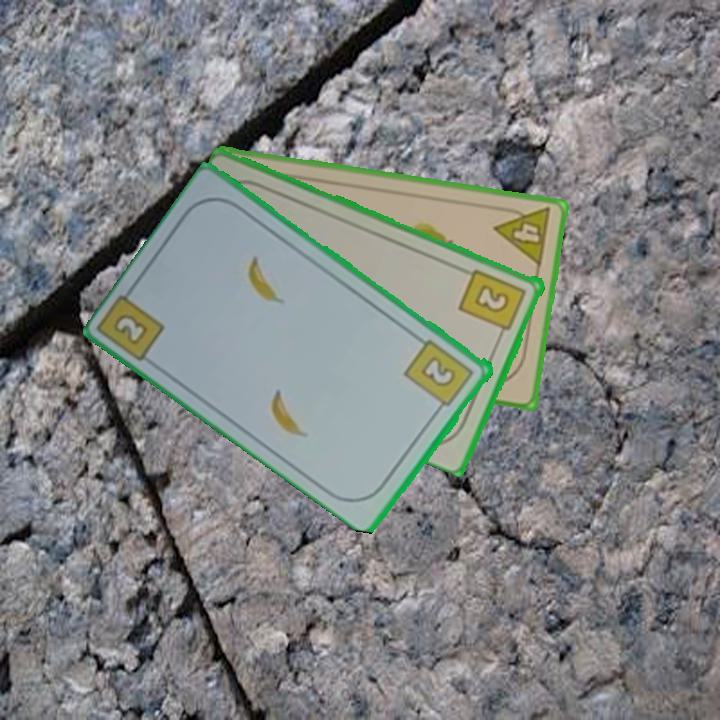2b: (401, 336, 477, 415), (456, 265, 530, 341), (110, 310, 152, 348)
4p: (491, 202, 554, 269)
